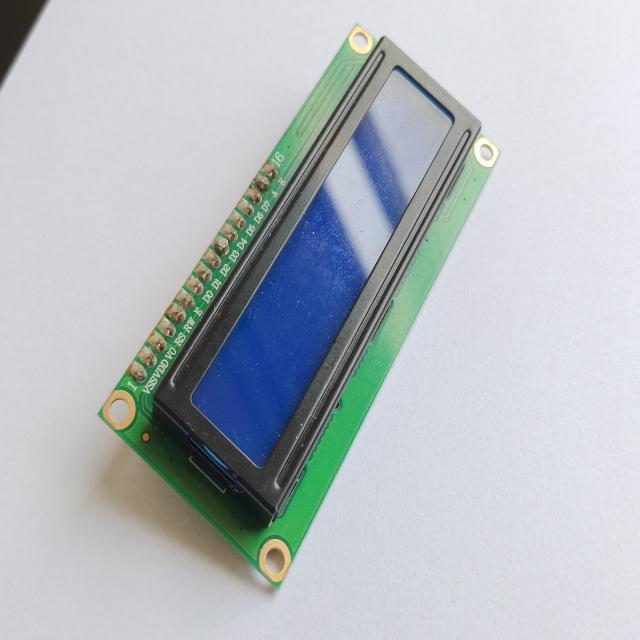lcd: (99, 16, 515, 602)
